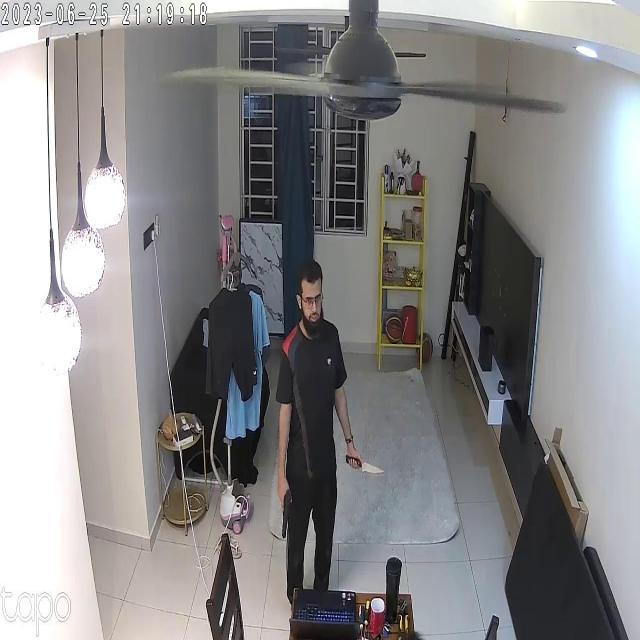Gun: (272, 483, 303, 542)
Knife: (342, 445, 392, 483)
